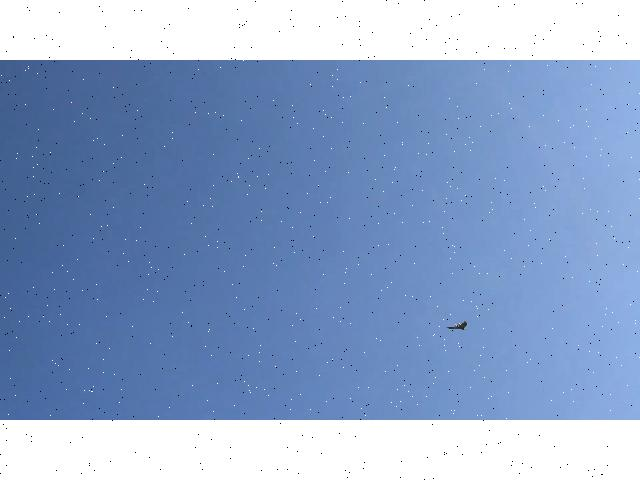Anti-Drone: (442, 308, 472, 337)
